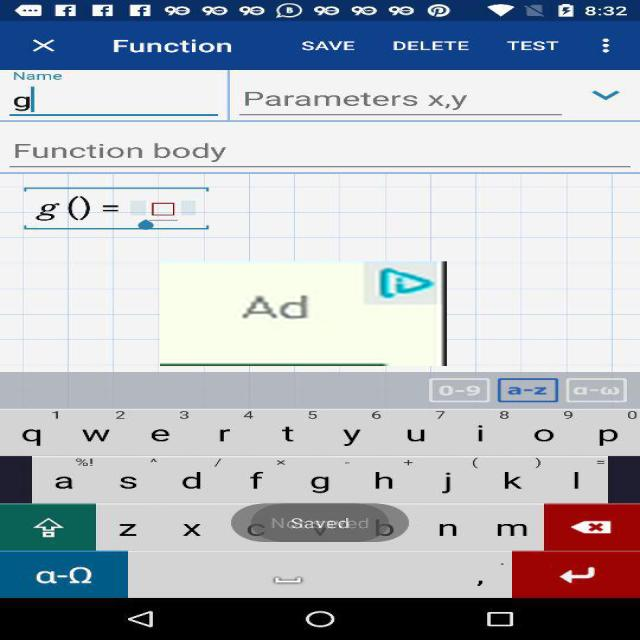sneaking: (160, 261, 447, 366)
